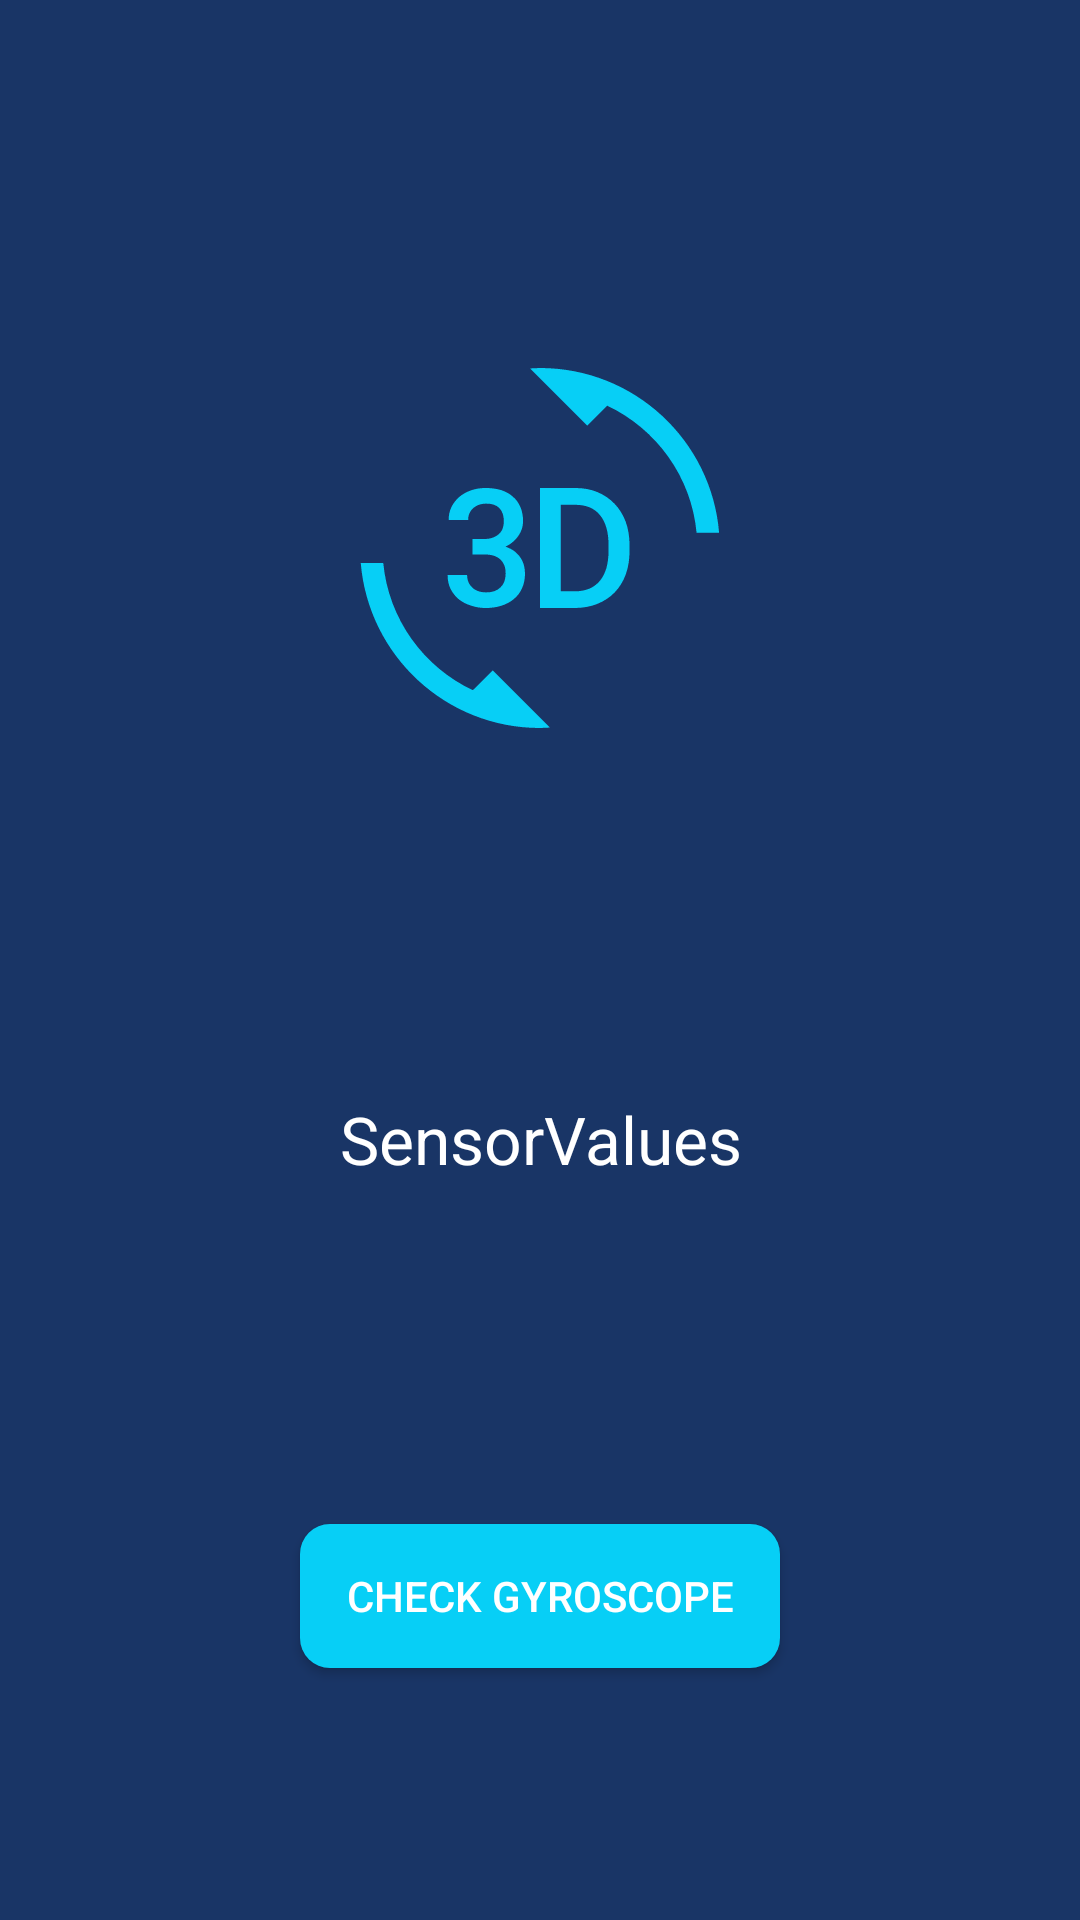

Screen size 1080px x 1920px. Icon name, then its box in pixels as (x1, y1, x2, y2):
gyro: (360, 368, 719, 728)
